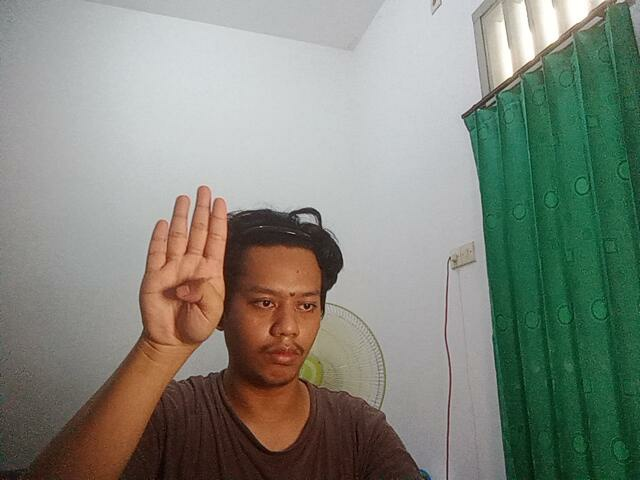B: (126, 177, 230, 354)
